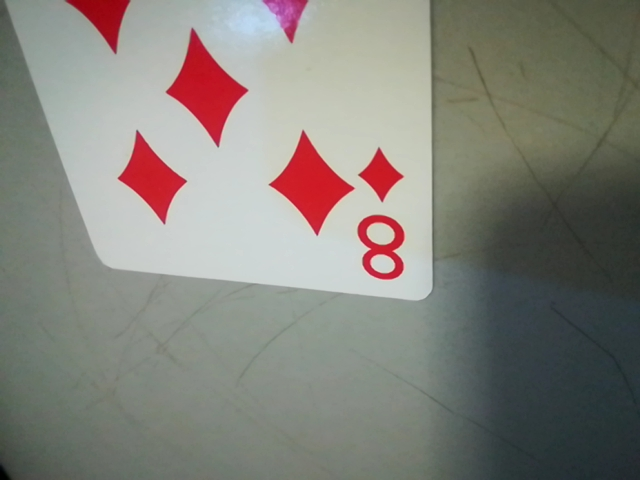fk 8: (344, 141, 421, 290)
